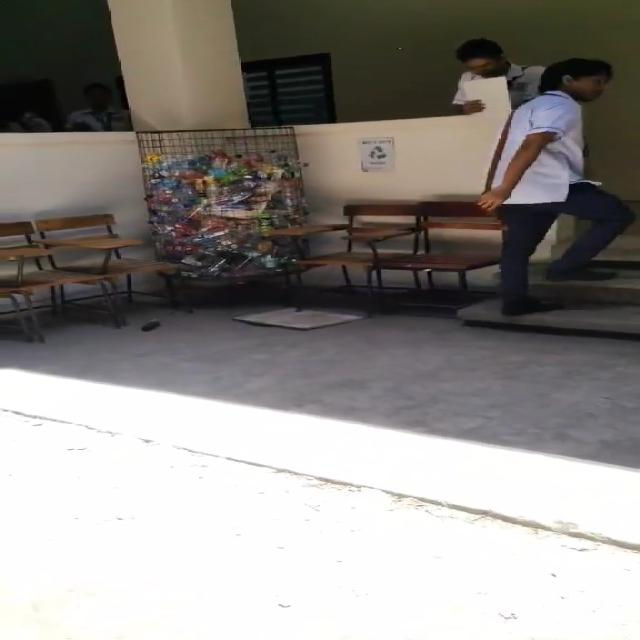Bottle: (140, 319, 161, 332)
